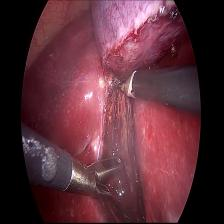Grasper: (71, 153, 128, 209)
Hook: (117, 69, 142, 109)
